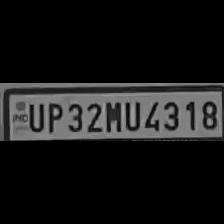1: (181, 97, 197, 130)
2: (84, 100, 103, 132)
3: (160, 98, 178, 132), (64, 100, 82, 132)
4: (142, 98, 160, 132)
8: (198, 97, 218, 129)
M: (102, 98, 122, 132)
P: (45, 99, 63, 133)
U: (122, 98, 140, 132), (25, 100, 43, 132)
